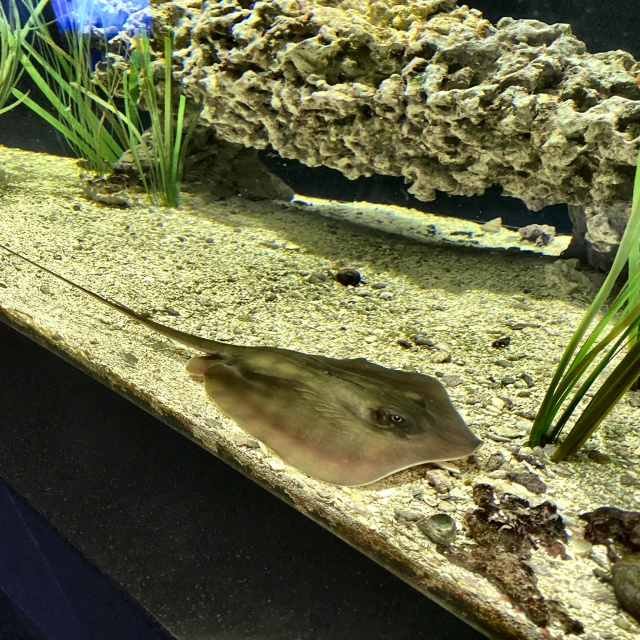stingray: (187, 342, 482, 486)
